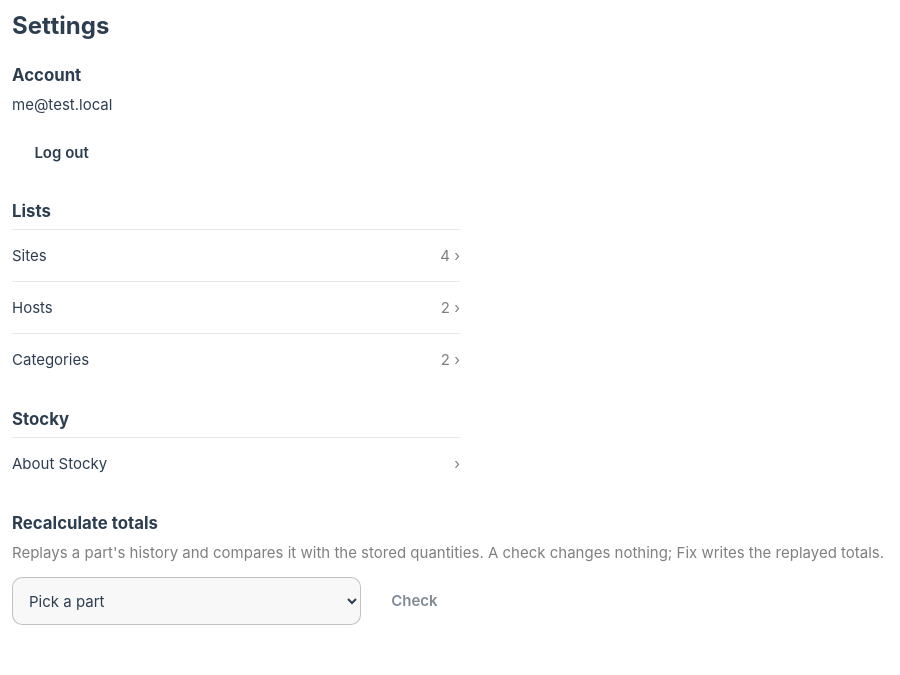
Test case: Recalculate totals (spec §7.6) › a check that matches
Select "microSD 128 GB" in the dropdown named "Part to check" at (186, 601), box x1=12 y1=577 x2=361 y2=625
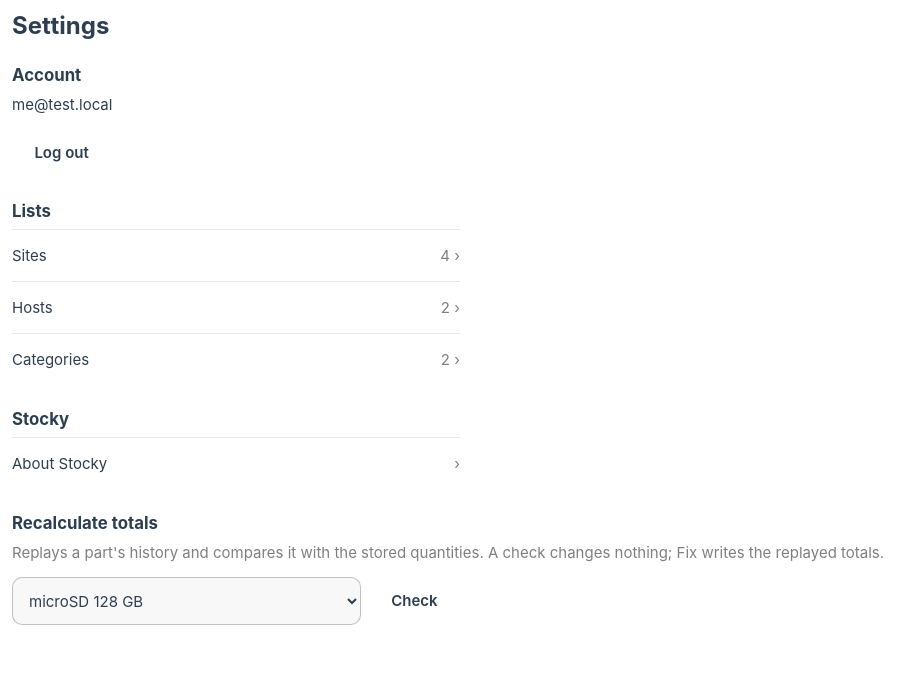
Click the button "Check" at (414, 601), box x1=369 y1=577 x2=460 y2=625
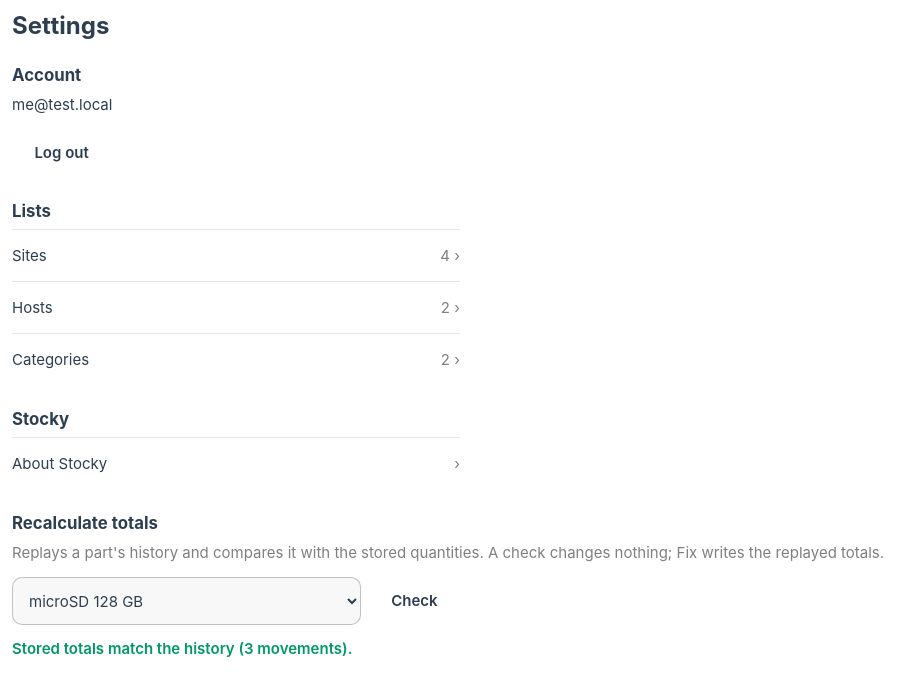
Now the element with test id "recalc-result" shows "Stored totals match the history (3 movements)", box x1=12 y1=639 x2=352 y2=658
